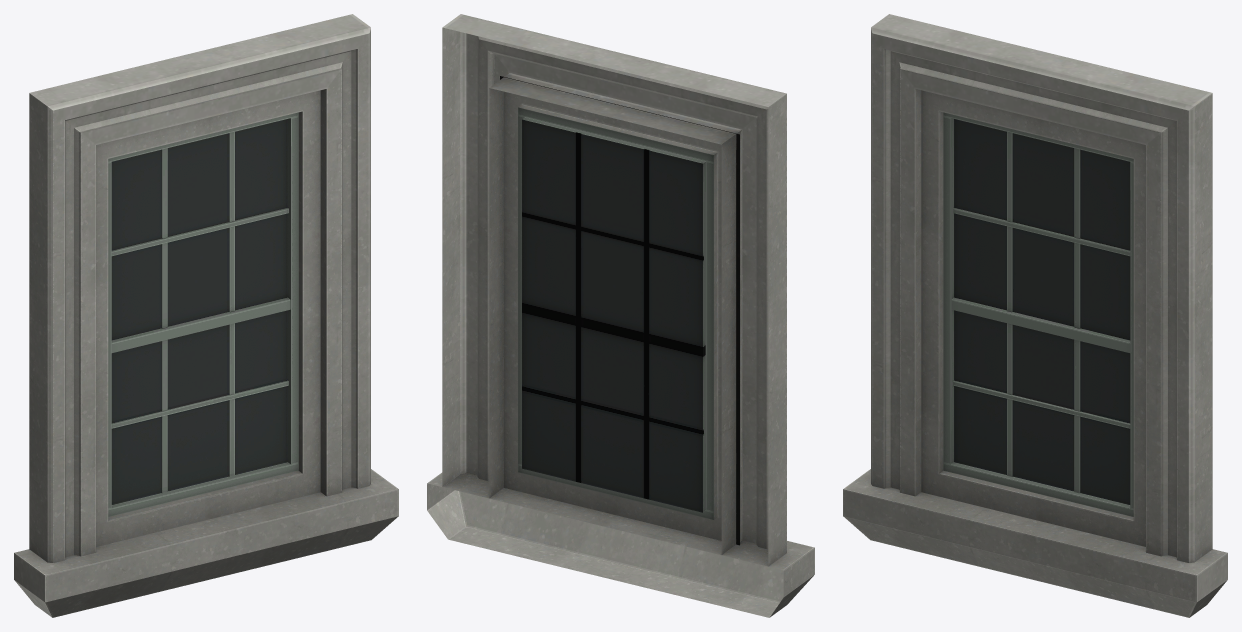
Rendered from window002.glb.
3 renders of one model, left to right at view 1: azimuth 30°, elevation 25°; view 2: azimuth 150°, elevation 25°; view 3: azimuth 330°, elevation 25°, orthographic.
Visible parts, largest first — view 1: window002; view 2: window002; view 3: window002.
Boxes of the visible parts, x1,y1,x2,y2 form: window002: (14,14,398,617); window002: (427,14,814,617); window002: (843,14,1227,617).
Bounding box in the file's own units: 1.94 × 2.67 × 0.2949.
Materials: 1 (1 with a texture image).
